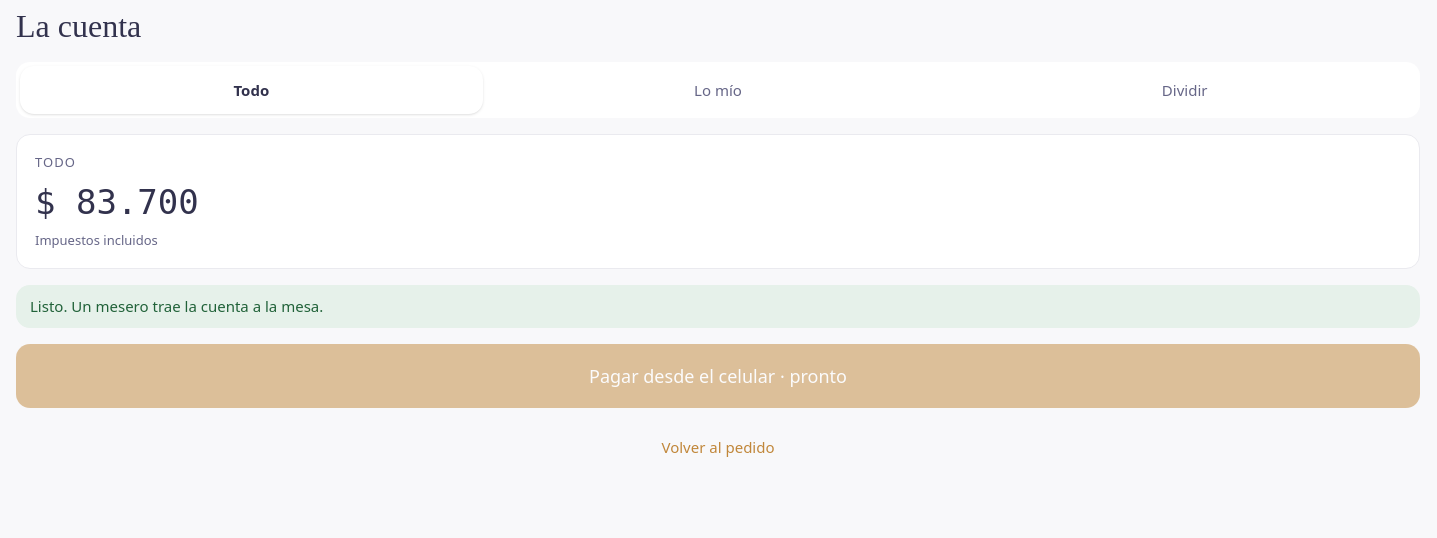
Test: switches between all, mine and split amounts
Expected: the text "$ 83.700" is shown, x1=35 y1=182 x2=199 y2=222
Click the button "Lo mío" at {"x": 718, "y": 90}, box x1=487 y1=66 x2=949 y2=114
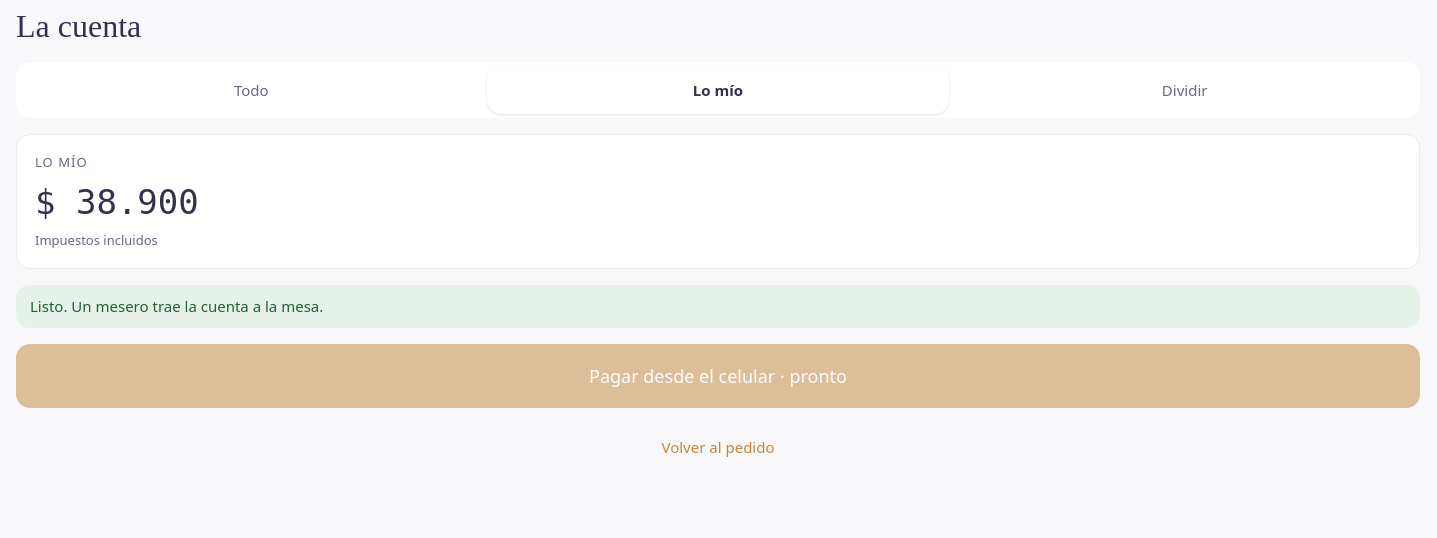
Now the text "$ 38.900" is shown, box x1=35 y1=182 x2=199 y2=222
Click the button "Dividir" at {"x": 1185, "y": 90}, box x1=953 y1=66 x2=1416 y2=114
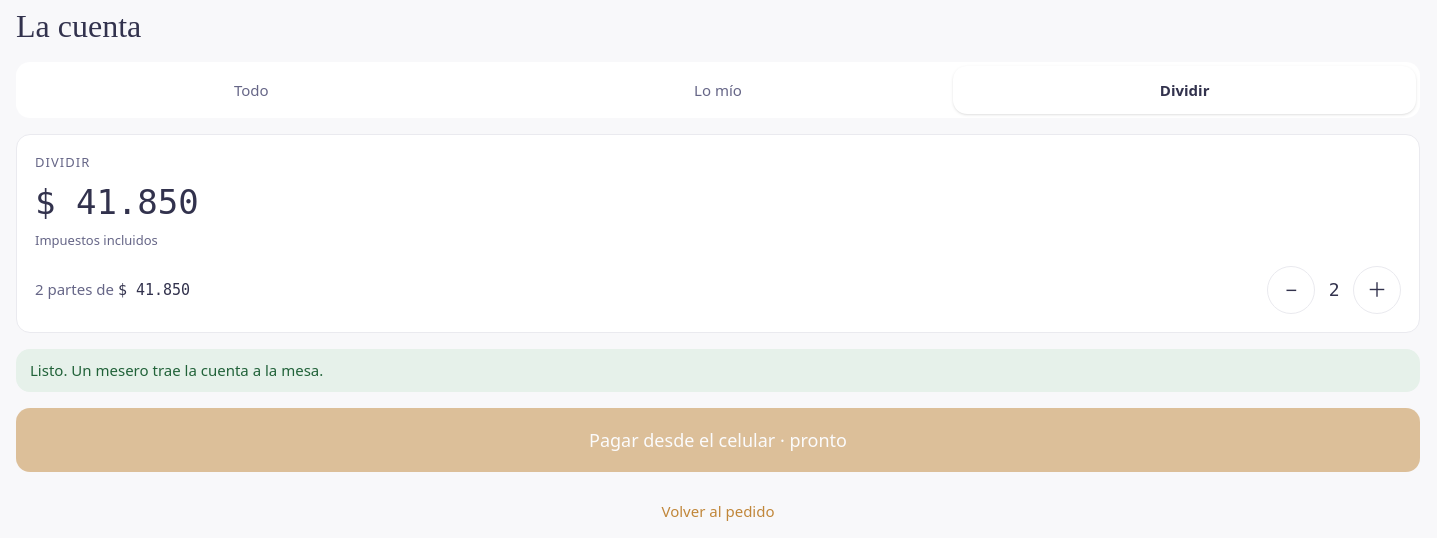
Now the text "2 partes de" is shown, box x1=35 y1=279 x2=118 y2=299
Now the text "$ 41.850" is shown 2 times, box x1=35 y1=182 x2=199 y2=222; x1=118 y1=281 x2=190 y2=299
